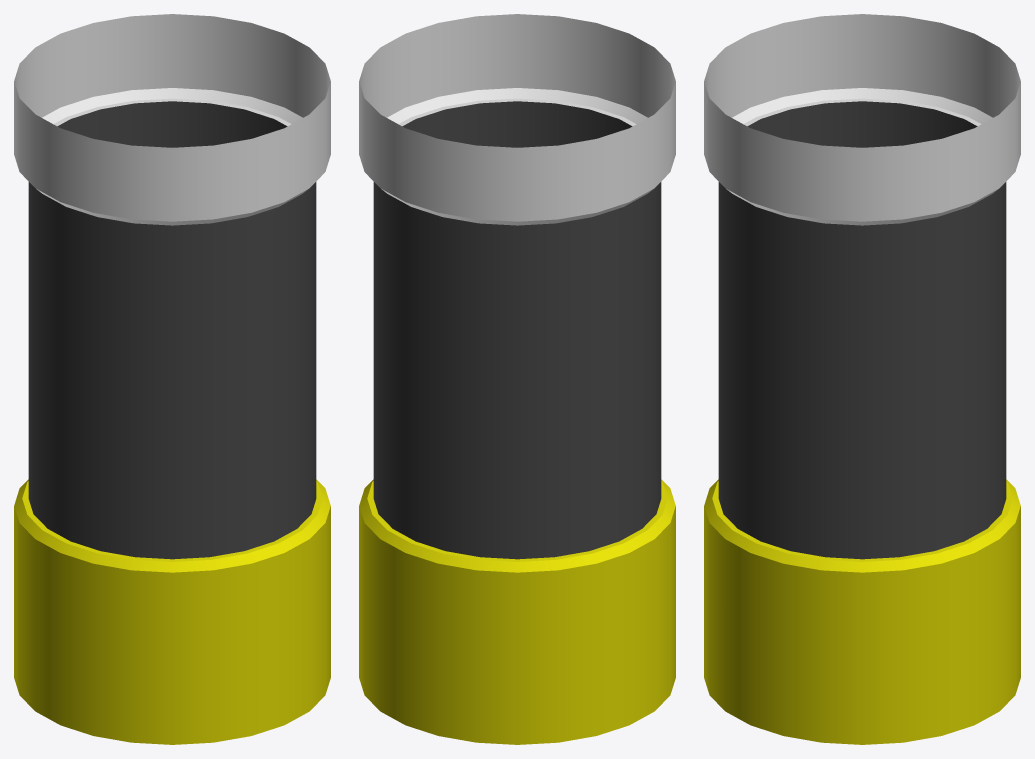
File: env_building_pillarsupport.fbx
3 renders of one model, left to right at view 1: azimuth 30°, elevation 25°; view 2: azimuth 150°, elevation 25°; view 3: azimuth 270°, elevation 25°, orthographic.
Visible parts, largest first — view 1: pCylinder8; view 2: pCylinder8; view 3: pCylinder8.
Part boxes in pixels (bbox=[...]): pCylinder8: bbox=[14, 14, 330, 744]; pCylinder8: bbox=[359, 14, 675, 744]; pCylinder8: bbox=[704, 14, 1020, 744].
Size of the model in its own units: 0.2441 by 0.5078 by 0.2441.
